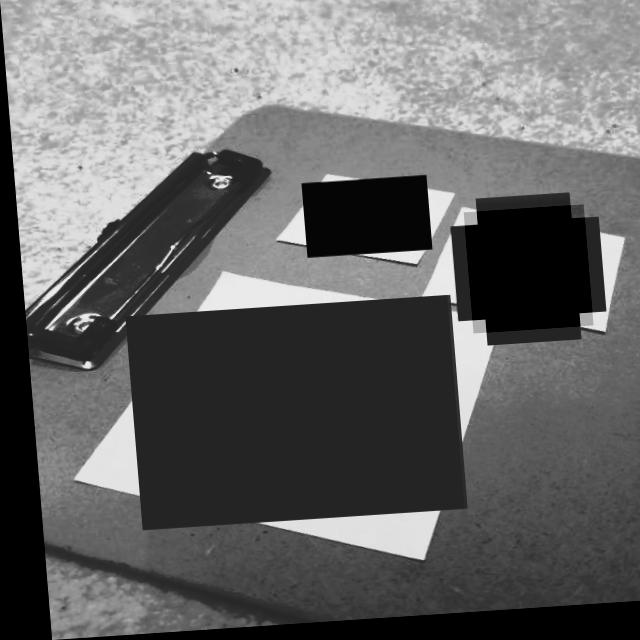qr_code: (120, 301, 458, 532), (460, 212, 587, 340), (298, 181, 428, 262)
